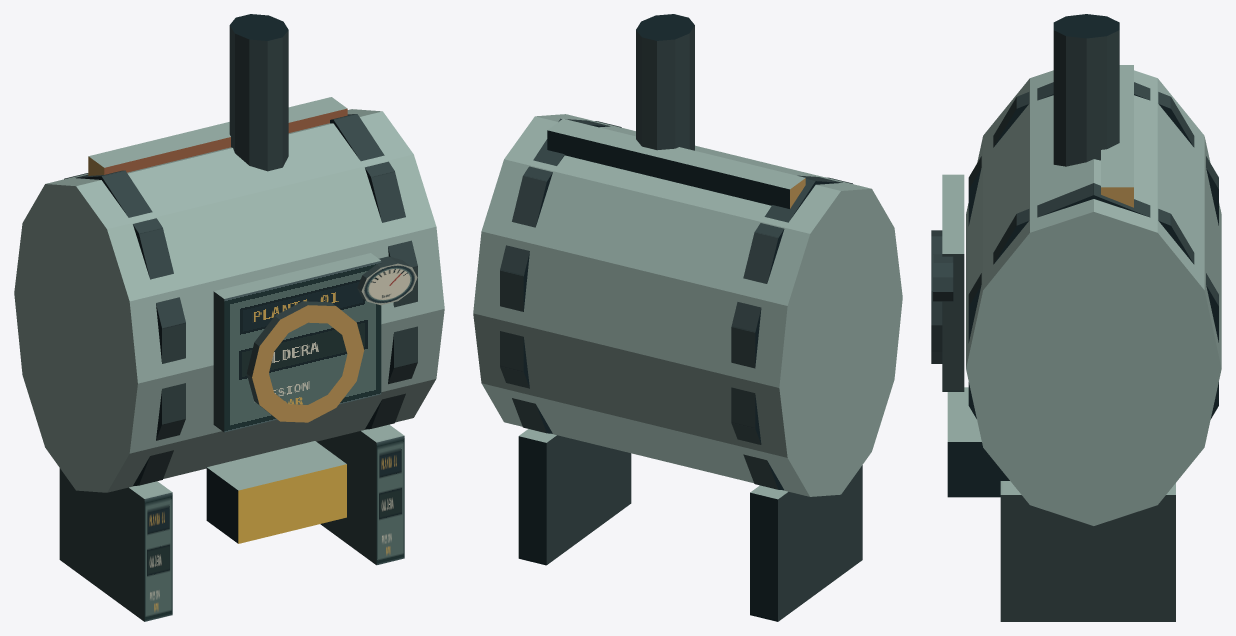
Rendered from caldera_industrial_grande.glb.
3 views of the same model, side by side, from view 1: azimuth 30°, elevation 25°; view 2: azimuth 150°, elevation 25°; view 3: azimuth 270°, elevation 25° (orthographic). The views are drawn at different scales.
Visible parts, largest first — view 1: CALDERA_PROPS; view 2: CALDERA_PROPS; view 3: CALDERA_PROPS.
Part boxes in pixels (<box>): CALDERA_PROPS: <box>14,14,444,621</box>; CALDERA_PROPS: <box>473,14,902,621</box>; CALDERA_PROPS: <box>931,14,1221,621</box>.
Size of the model in its own units: 1.37 by 2.25 by 1.09.
Materials: 1 (1 with a texture image).
